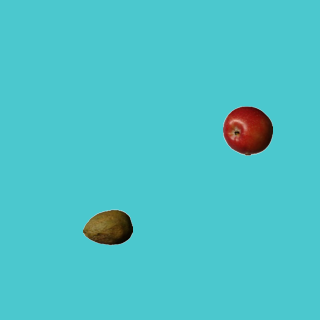Apple Braeburn: (222, 105, 272, 155)
Papaya: (82, 202, 132, 252)
